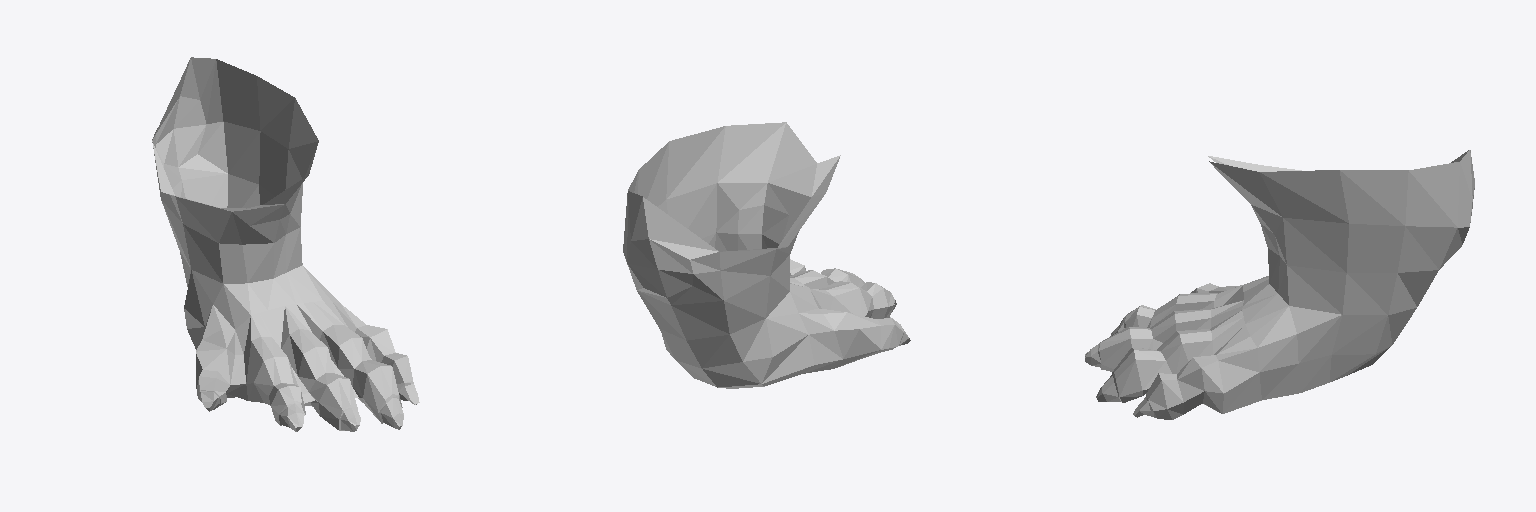
File: nutriapatadelanteraizquierda.obj
The picture shows the model from 3 angles: view 1: azimuth 30°, elevation 25°; view 2: azimuth 150°, elevation 25°; view 3: azimuth 270°, elevation 25°; orthographic projection.
Visible parts, largest first — view 1: body_Mat.1_0.002_Mat.1; view 2: body_Mat.1_0.002_Mat.1; view 3: body_Mat.1_0.002_Mat.1.
Boxes of the visible parts, box(x1,y1,x2,y2) form: body_Mat.1_0.002_Mat.1: box(152, 57, 419, 431); body_Mat.1_0.002_Mat.1: box(623, 122, 910, 388); body_Mat.1_0.002_Mat.1: box(1085, 150, 1474, 419).
Size of the model in its own units: 12.11 by 14.42 by 20.95.